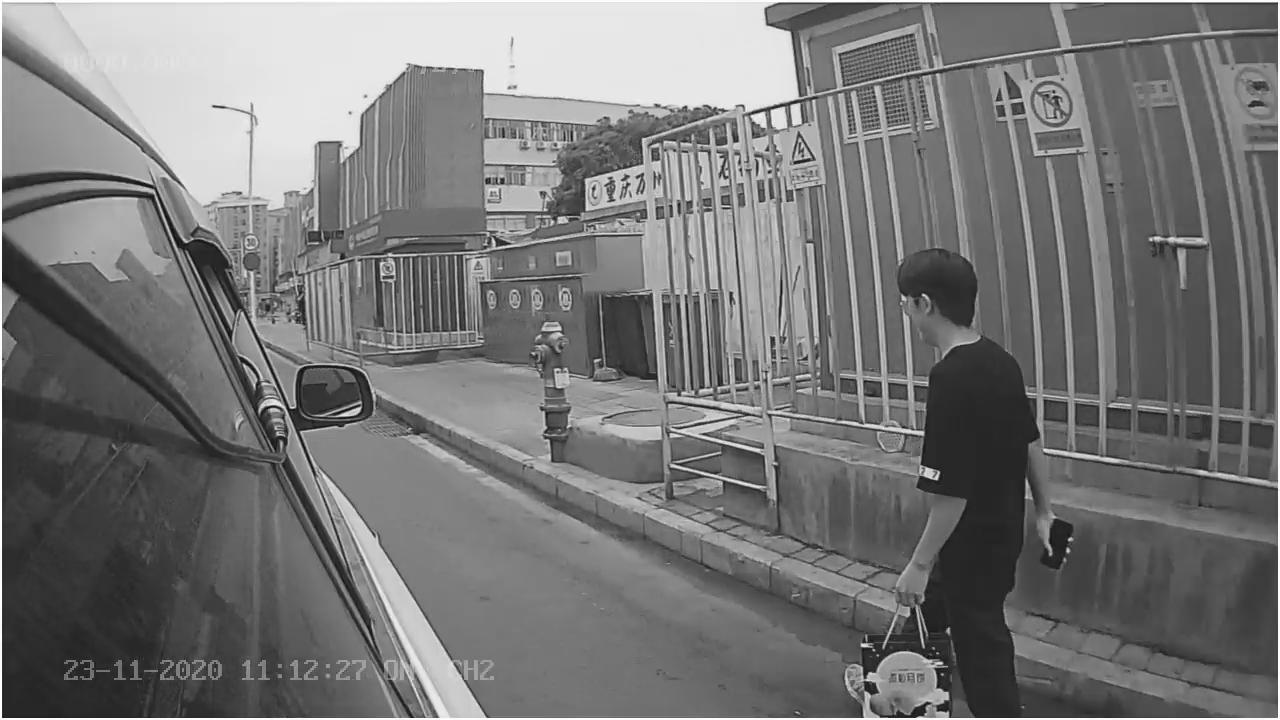person: (863, 247, 1065, 682)
